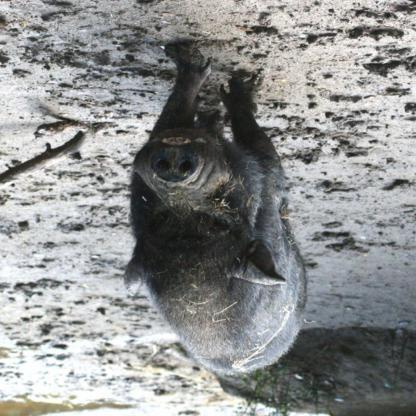boar: (123, 42, 308, 378)
